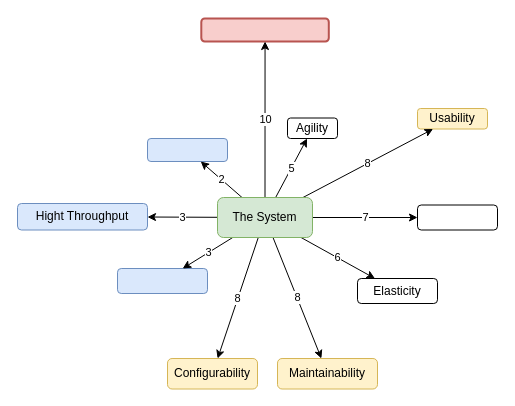
Image size: 515x406. Some labels were removed from this diagram. Here are the shapes that lost their labels. From the top down, the box of each, then its label:
(200, 17, 329, 42): Information Security
(146, 138, 228, 162): Availability
(416, 204, 498, 230): Testability
(116, 268, 208, 294): Low Latency
